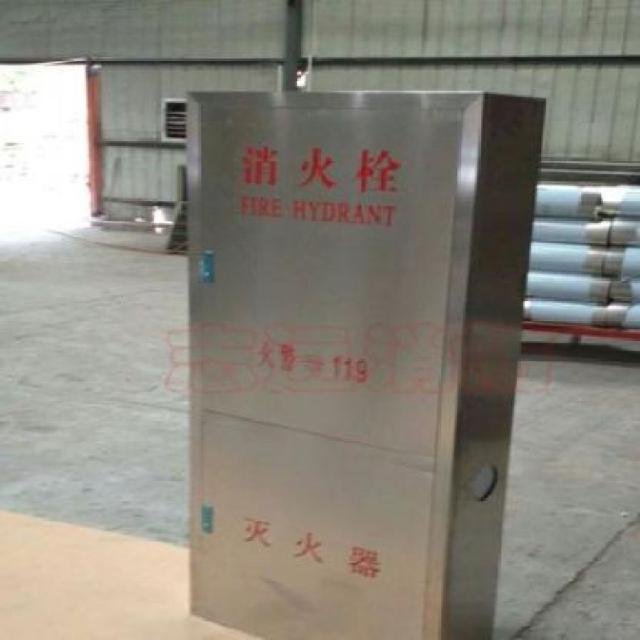firehydrant: (178, 84, 550, 640)
